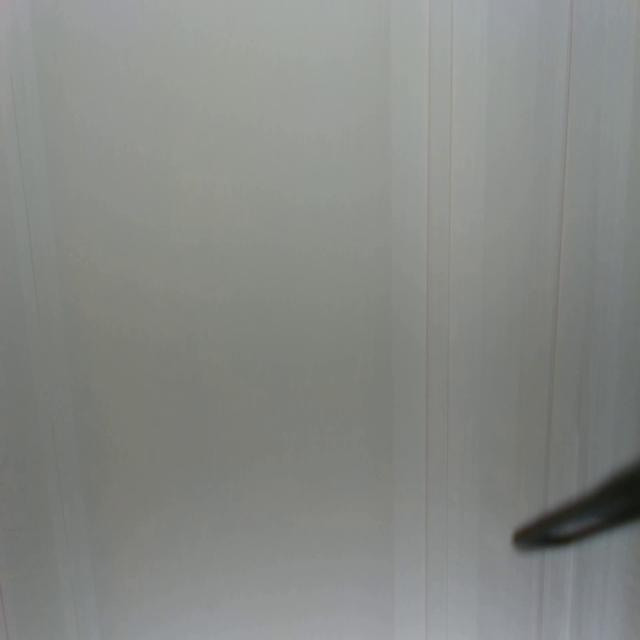crease: (8, 68, 82, 640), (544, 0, 575, 498), (442, 0, 454, 639), (424, 1, 434, 640), (536, 553, 546, 640)
